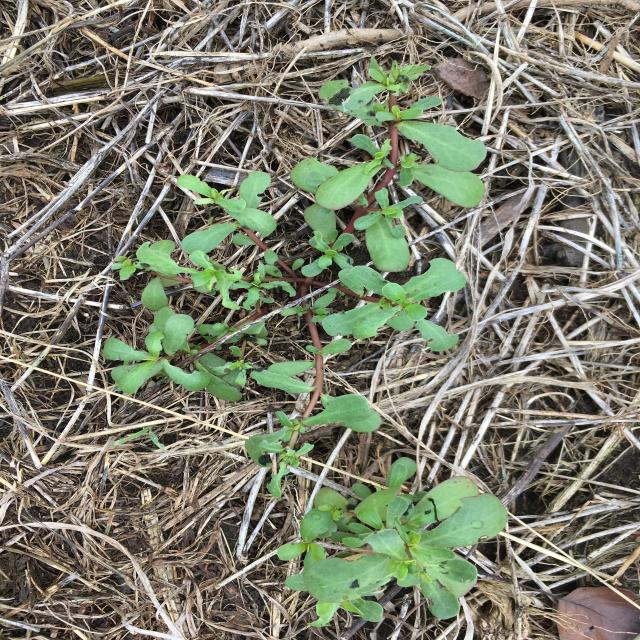Purslane: (103, 54, 487, 499), (277, 457, 508, 628)
